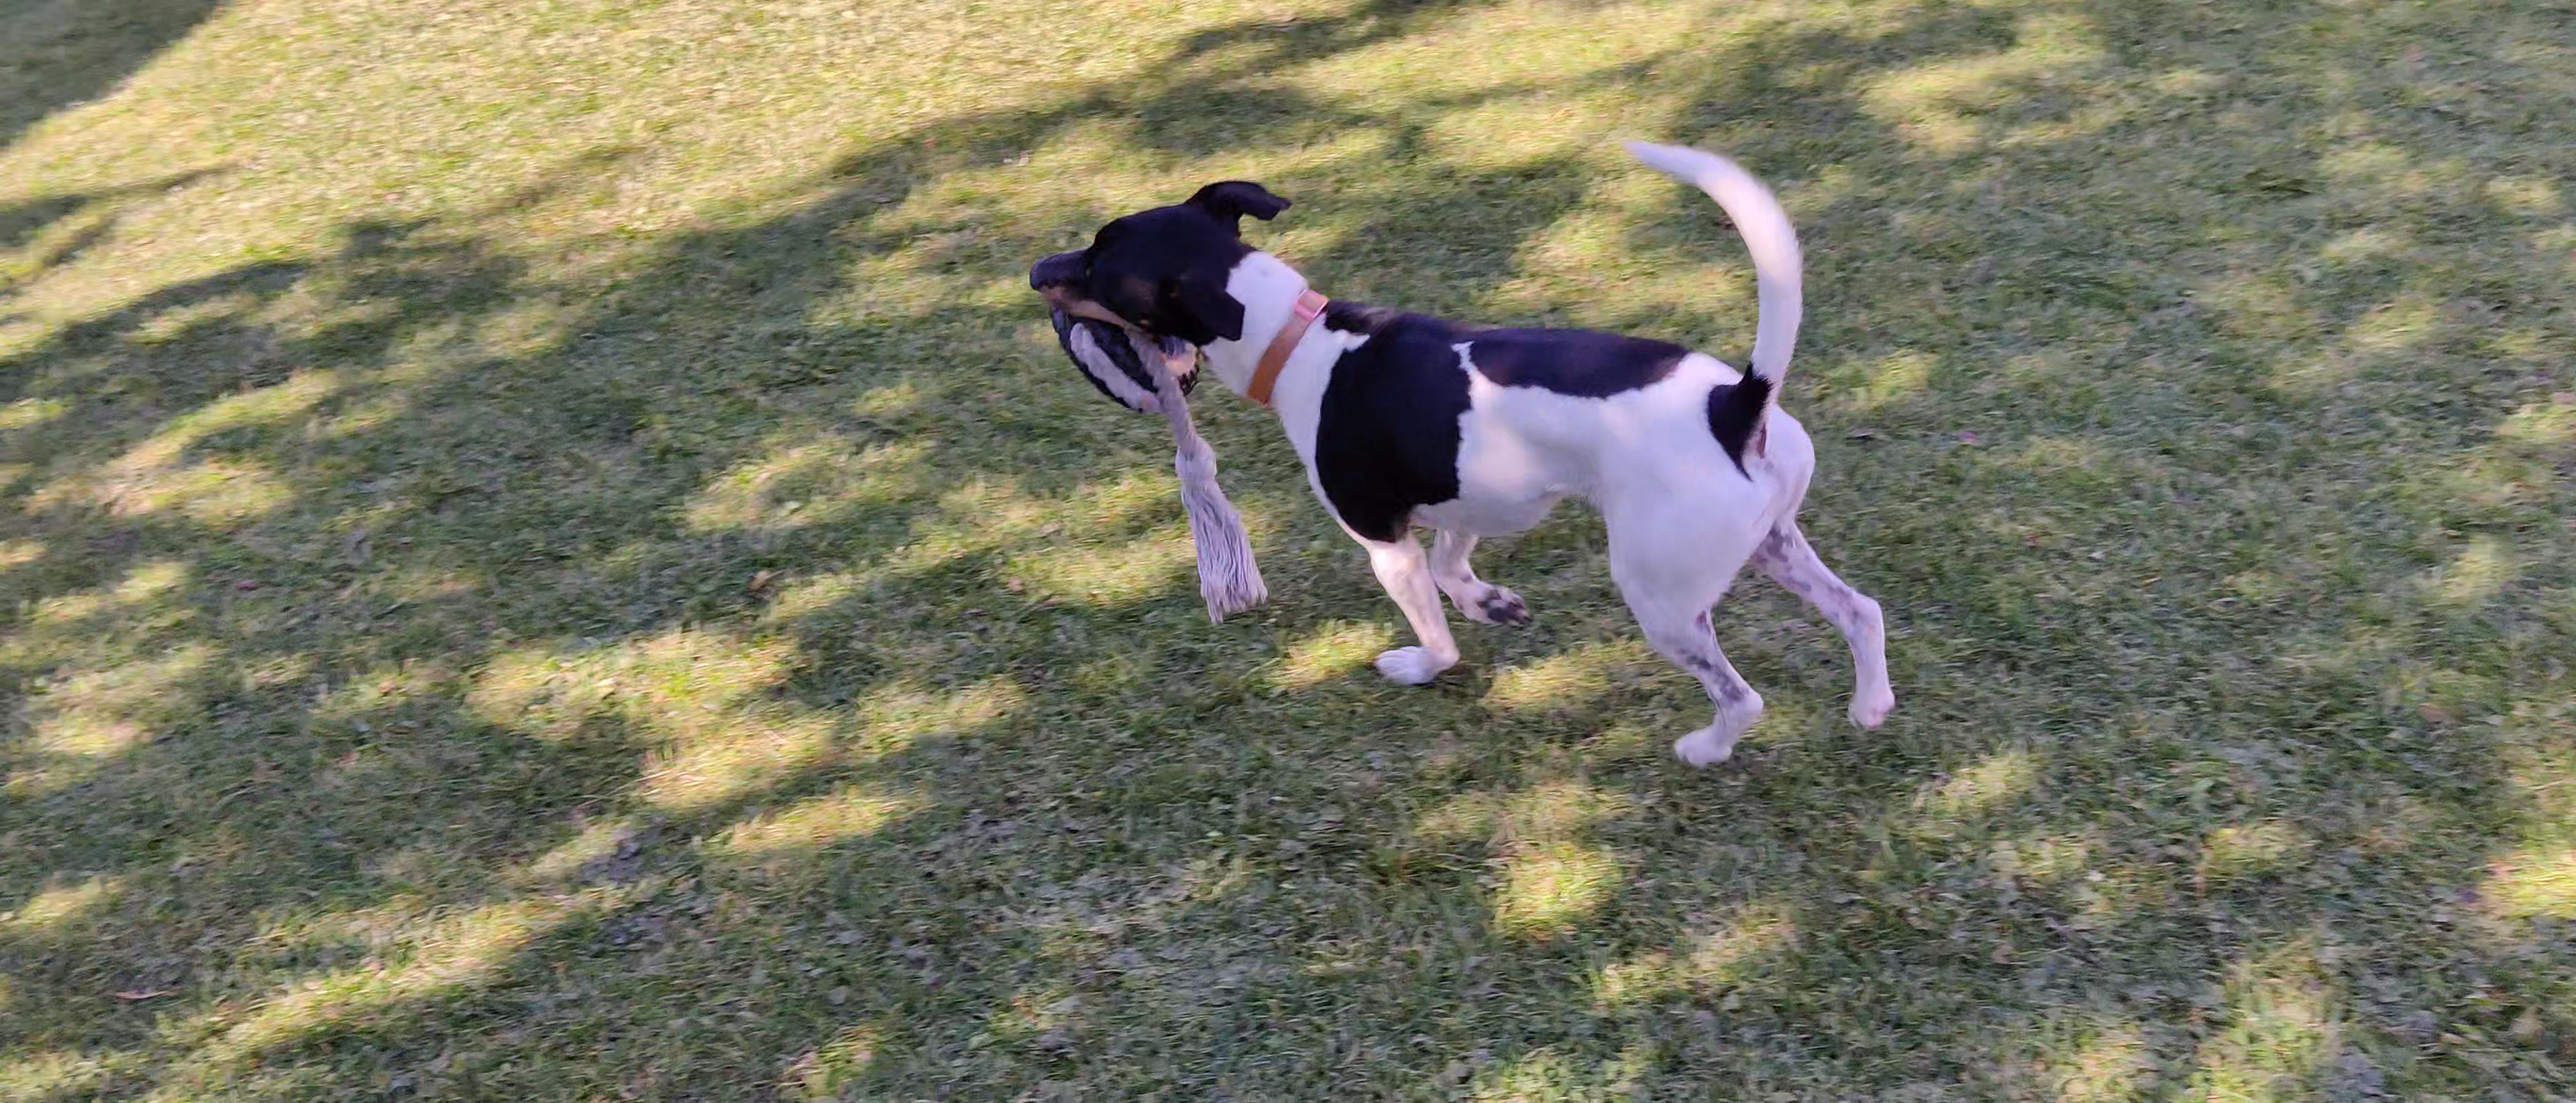Dog: (1022, 135, 1912, 773)
